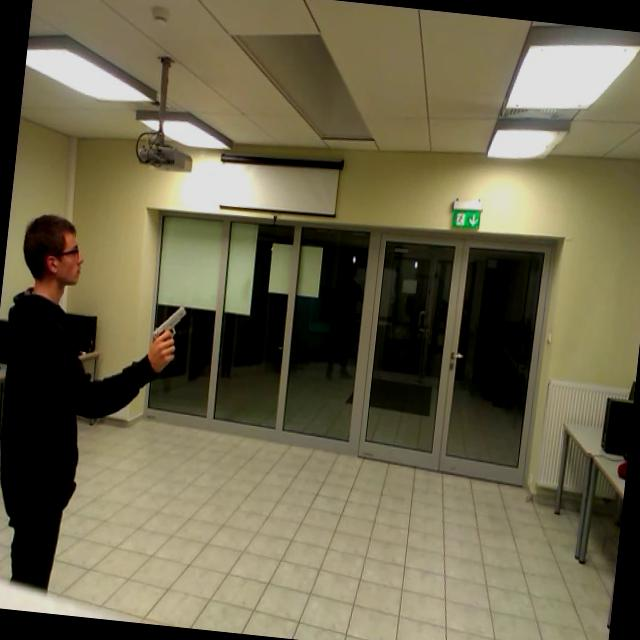handgun: (138, 286, 202, 388)
